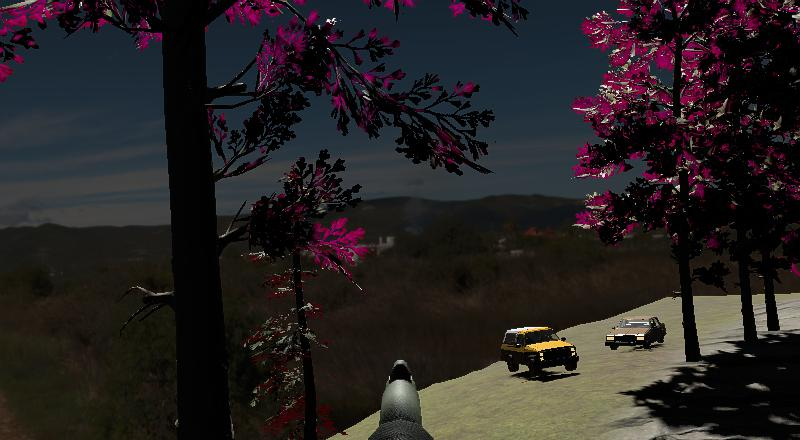car: (499, 321, 581, 380), (603, 312, 668, 354)
